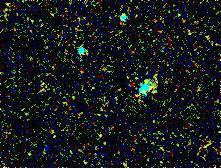star: (134, 71, 164, 101)
